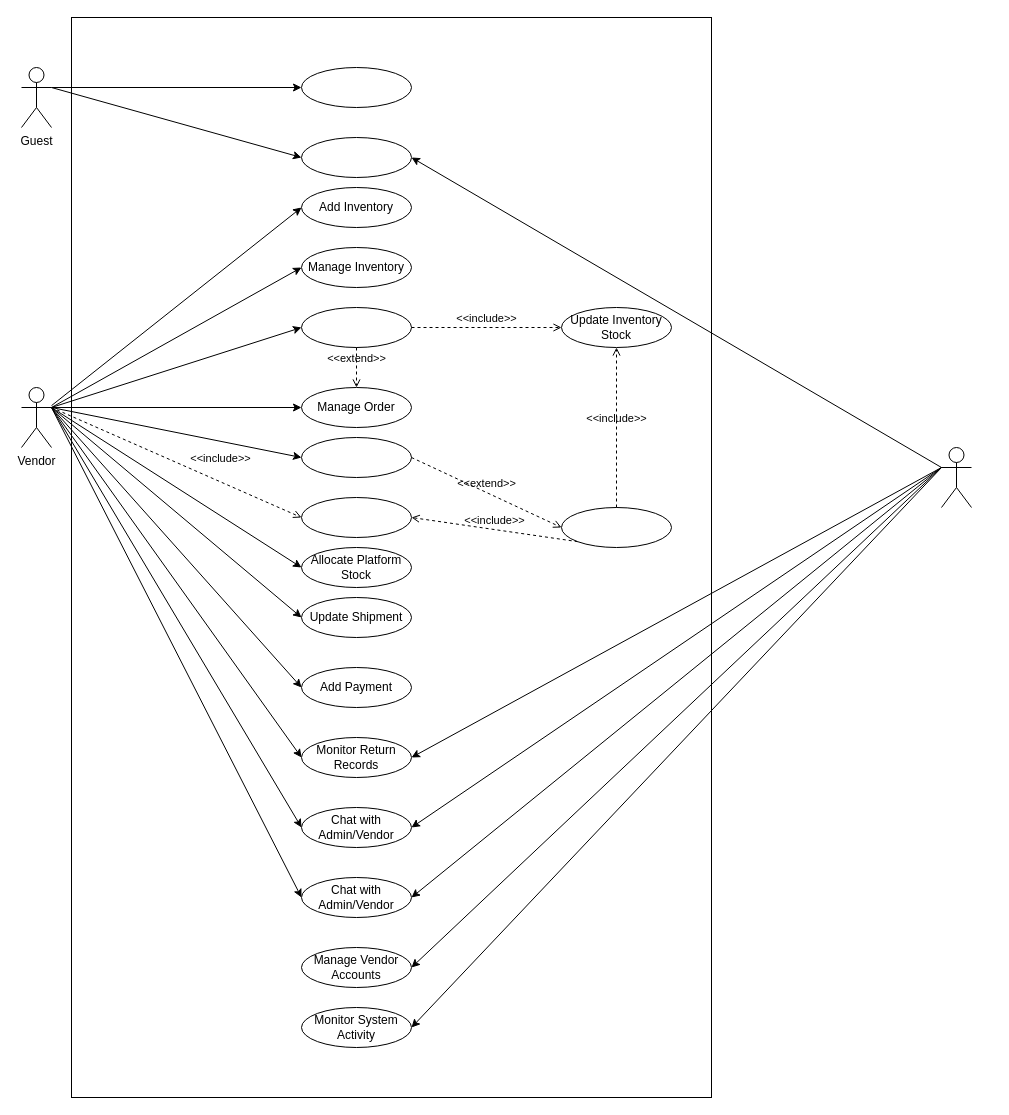
Image size: 1009x1115. Some labels were removed from this diagram. Here are the shapes that lost their labels. From the top down, the centre of each, then its label:
At point (356, 87): "Register account".
At point (356, 157): "Login account".
At point (356, 327): "Place Order".
At point (356, 457): "Add Shipment".
At point (956, 477): "Administrator".
At point (356, 517): "Manage Payment".
At point (616, 527): "Process Return".
